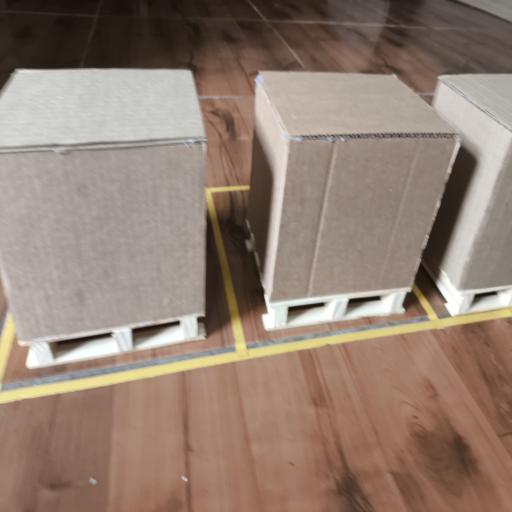pallet: (246, 222, 410, 330), (20, 316, 205, 368), (422, 261, 511, 316)
